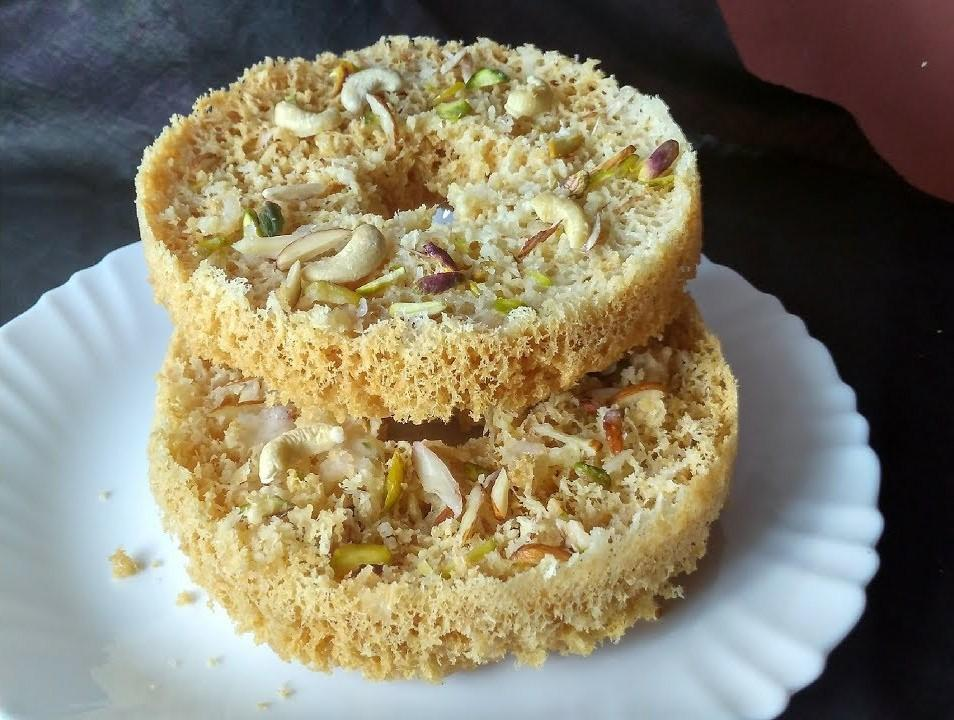Ghevar: (134, 30, 703, 425), (152, 325, 744, 683)
